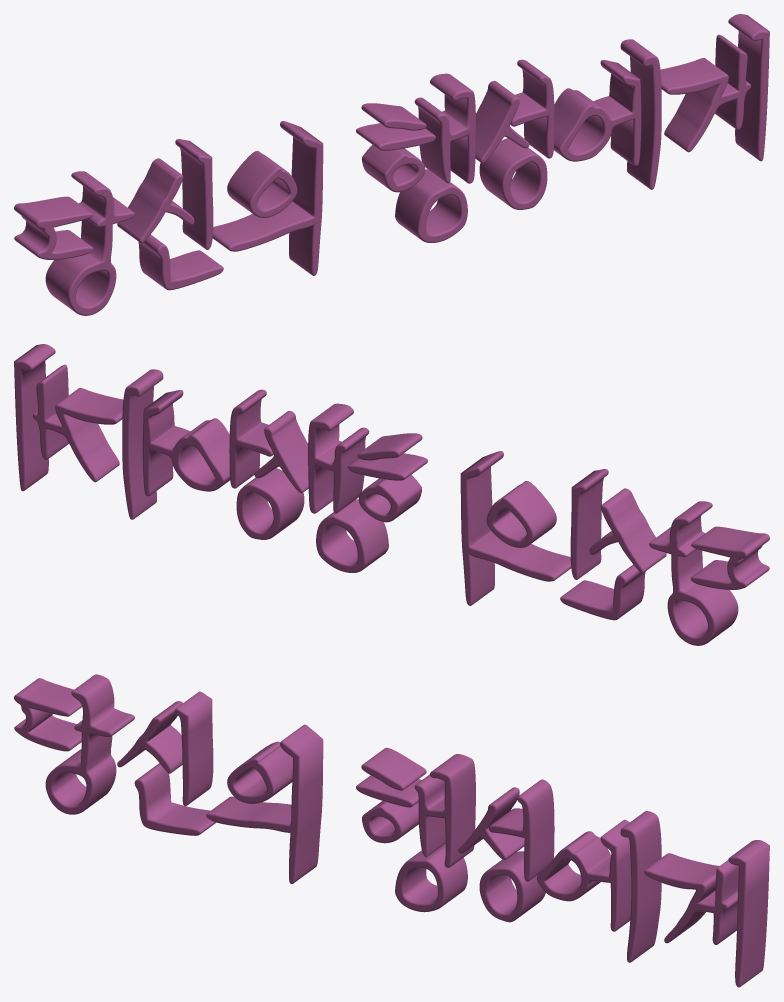
The model's file is TitlePink.fbx.
The picture shows the model from 3 angles, top to bottom: view 1: azimuth 30°, elevation 25°; view 2: azimuth 150°, elevation 25°; view 3: azimuth 330°, elevation 25°; orthographic projection.
Visible parts, largest first — view 1: Text; view 2: Text; view 3: Text.
Part boxes in pixels (left/top/right/bottom): Text: left=14, top=14, right=769, bottom=315; Text: left=14, top=344, right=769, bottom=645; Text: left=14, top=674, right=769, bottom=987.
Bounding box in the file's own units: 423 × 82.07 × 24.
